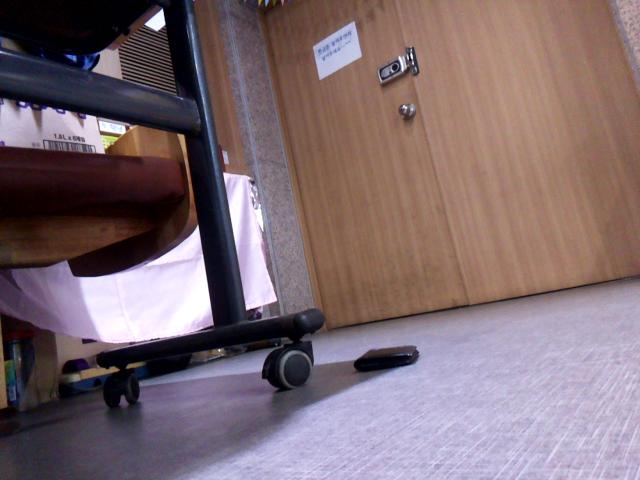wallet: (348, 341, 421, 376)
